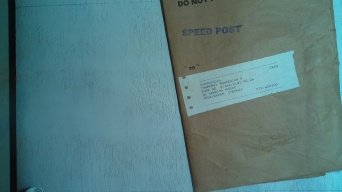l: (190, 1, 340, 191)
